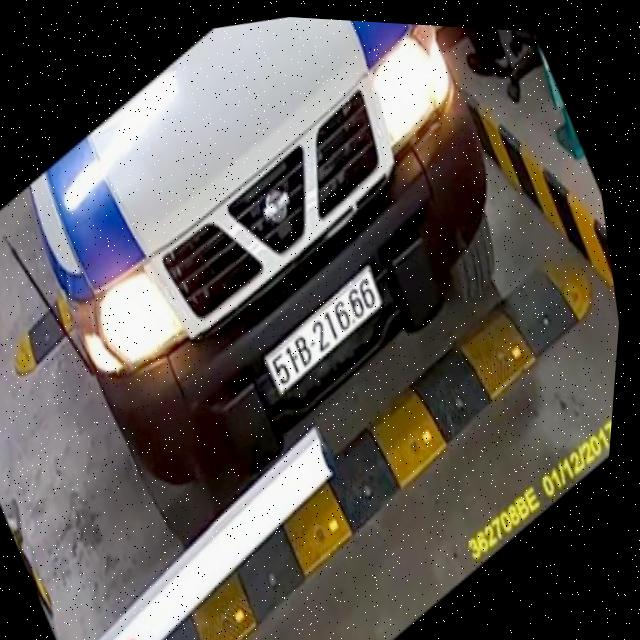car: (0, 0, 583, 586)
plate: (243, 255, 403, 403)
